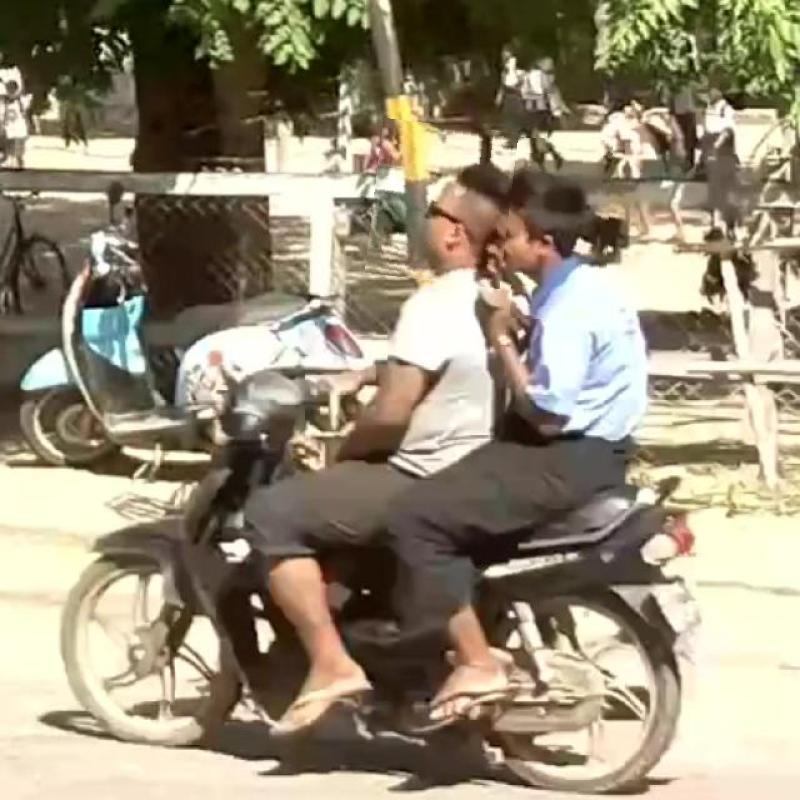nohelmet: (370, 123, 514, 286), (512, 138, 612, 321)
